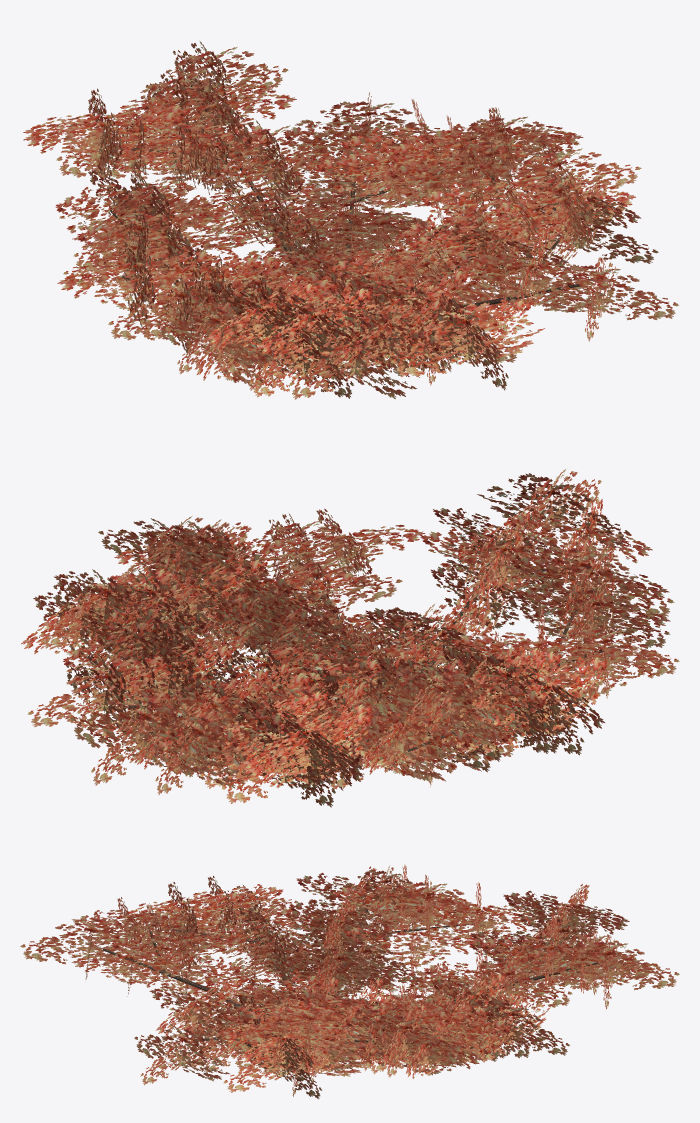
Rendered from bush_3d_04_copper_lod0.glb.
3 renders of one model, top to bottom at view 1: azimuth 30°, elevation 25°; view 2: azimuth 150°, elevation 25°; view 3: azimuth 270°, elevation 25°, orthographic. The views are drawn at different scales.
Parts seen in each view (by area): view 1: foliage_cards, wood_geometry; view 2: foliage_cards, wood_geometry; view 3: foliage_cards, wood_geometry.
Part boxes in pixels (box(x1,y1,x2,y2)): foliage_cards: box(23, 41, 678, 399); wood_geometry: box(109, 84, 580, 344); foliage_cards: box(21, 469, 679, 807); wood_geometry: box(127, 514, 614, 751); foliage_cards: box(20, 864, 679, 1099); wood_geometry: box(102, 899, 608, 1058).
Bounding box in the file's own units: 2.79 × 0.816 × 3.7.
2 materials, 2 textured.
